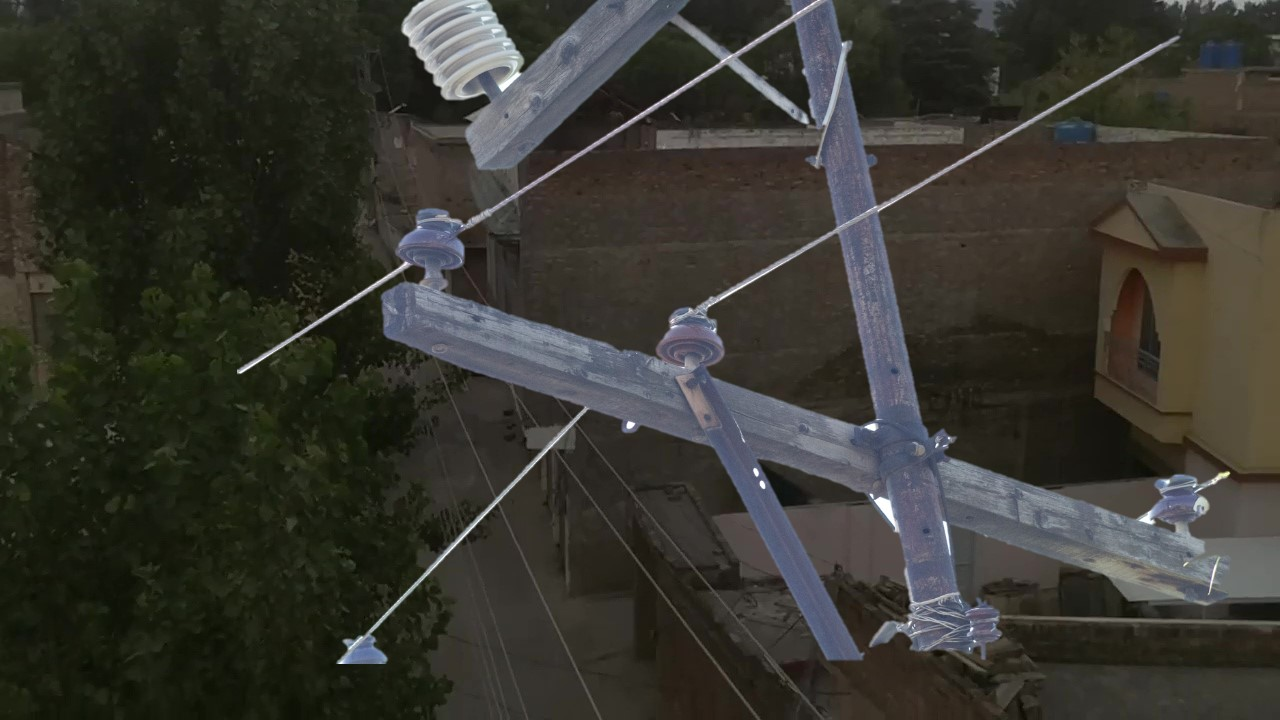defect_pin: (1143, 461, 1221, 530)
insulator_pin: (390, 198, 475, 285), (653, 301, 735, 374)
